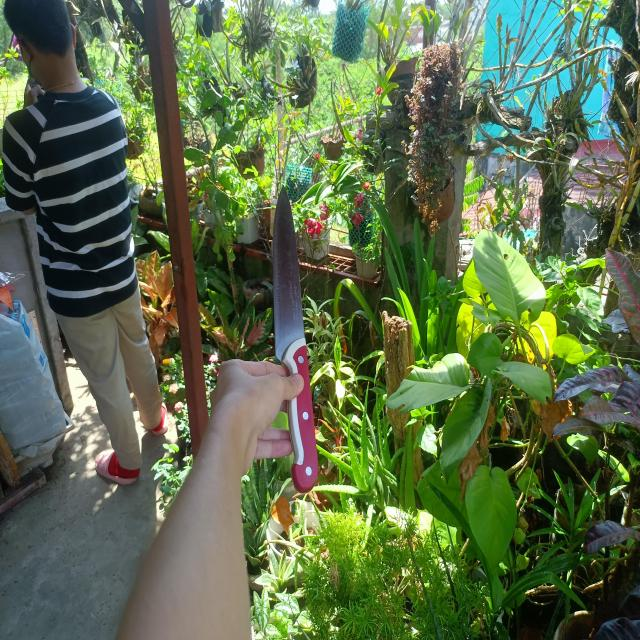knife: (273, 185, 317, 493)
